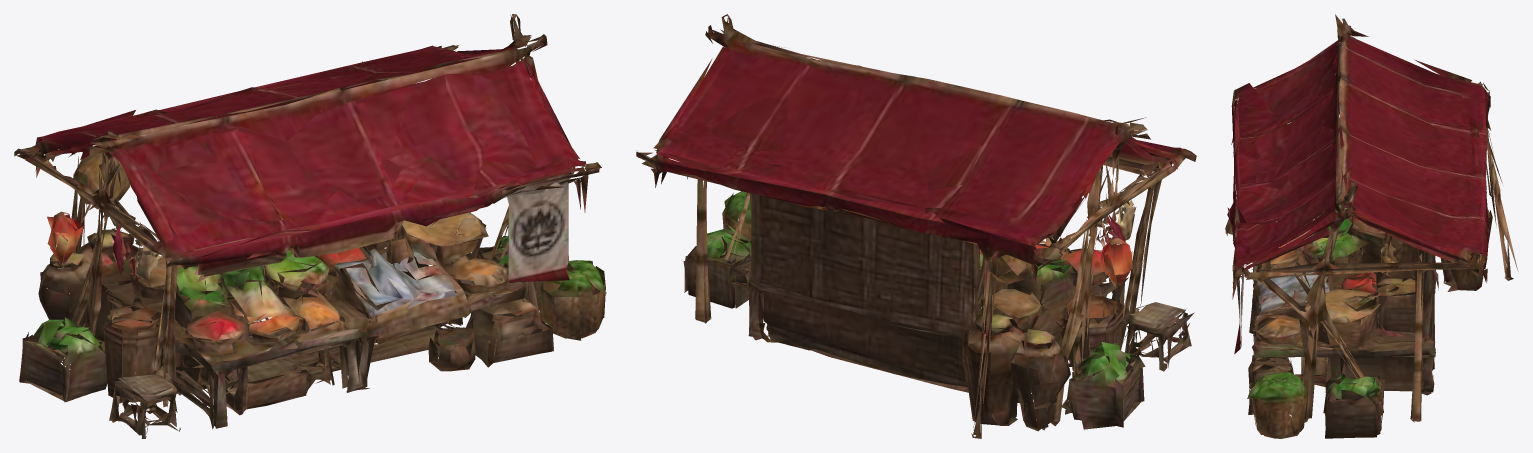
File: barraca_lod1.glb
3 renders of one model, left to right at view 1: azimuth 30°, elevation 25°; view 2: azimuth 150°, elevation 25°; view 3: azimuth 270°, elevation 25°, orthographic. The views are drawn at different scales.
Parts seen in each view (by area): view 1: barraca; view 2: barraca; view 3: barraca.
Boxes of the visible parts, x1,y1,x2,y2 form: barraca: (14, 14, 606, 438); barraca: (636, 14, 1196, 438); barraca: (1225, 14, 1518, 438).
Size of the model in its own units: 5.41 by 3.03 by 3.26.
Materials: 1 (1 with a texture image).
